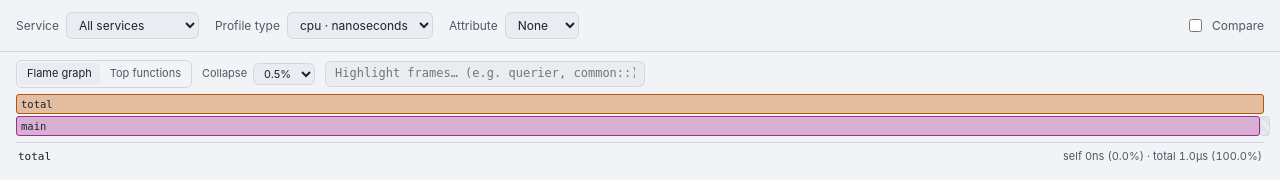
Scenario: ProfilesView › collapsing small frames › reveals the folded frame when the threshold is turned off
The image size is (1280, 180).
Expected: the button named "(other)" is shown, [1260,116,1270,136]
Step 1. Select "Off" in the dropdown named "Collapse small frames" → (284, 74), box [253,63,315,85]
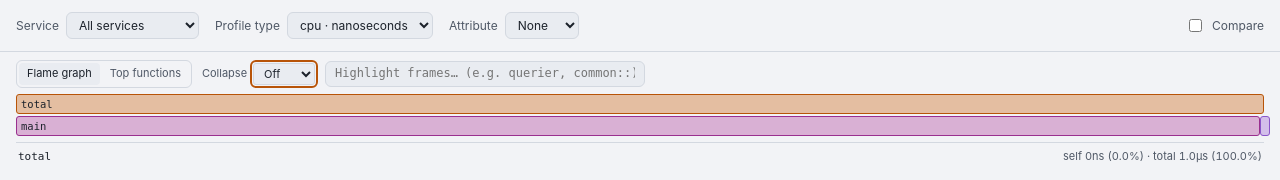
Expected: the button "(other)" is not shown
Result: the button named "tiny" is shown at [1260,116,1270,136]
